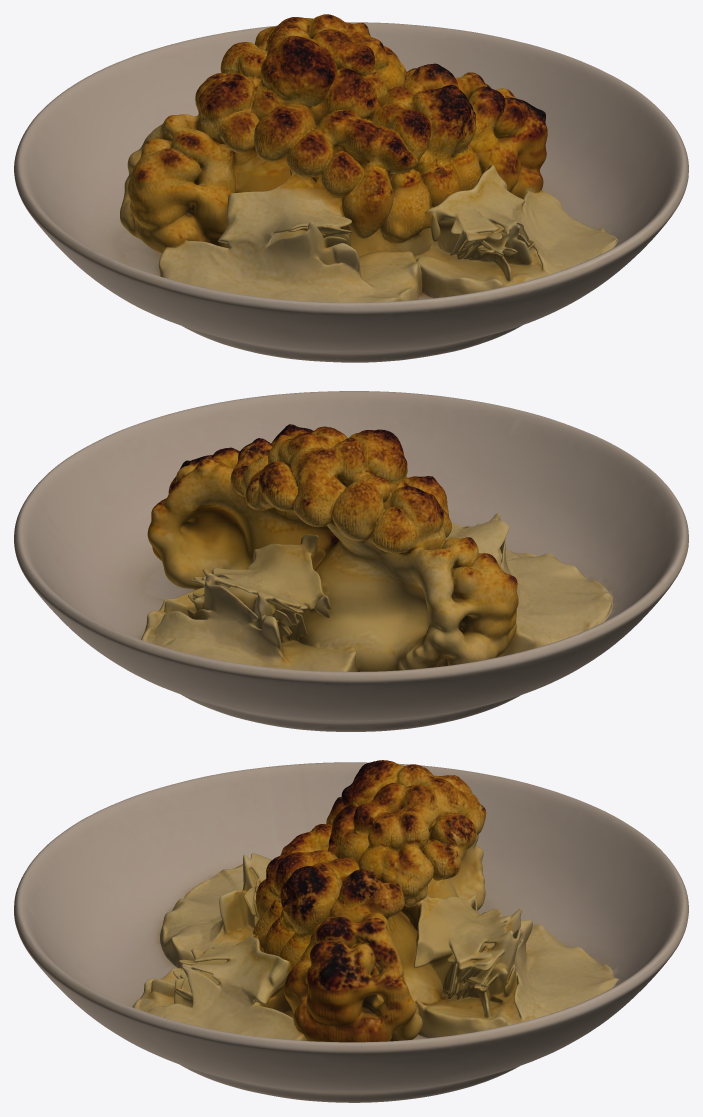
File: aspas-couveflor.glb
3 renders of one model, top to bottom at view 1: azimuth 30°, elevation 25°; view 2: azimuth 150°, elevation 25°; view 3: azimuth 270°, elevation 25°, orthographic.
Parts seen in each view (by area): view 1: tripo_node_35d895a7-ab9b-442a-bb49-a17217eff7f9; view 2: tripo_node_35d895a7-ab9b-442a-bb49-a17217eff7f9; view 3: tripo_node_35d895a7-ab9b-442a-bb49-a17217eff7f9.
Boxes of the visible parts, x1,y1,x2,y2 form: tripo_node_35d895a7-ab9b-442a-bb49-a17217eff7f9: [14, 14, 688, 362]; tripo_node_35d895a7-ab9b-442a-bb49-a17217eff7f9: [14, 391, 688, 731]; tripo_node_35d895a7-ab9b-442a-bb49-a17217eff7f9: [14, 760, 688, 1102].
Size of the model in its own units: 0.2023 by 0.0783 by 0.2027.
1 material, 1 textured.
